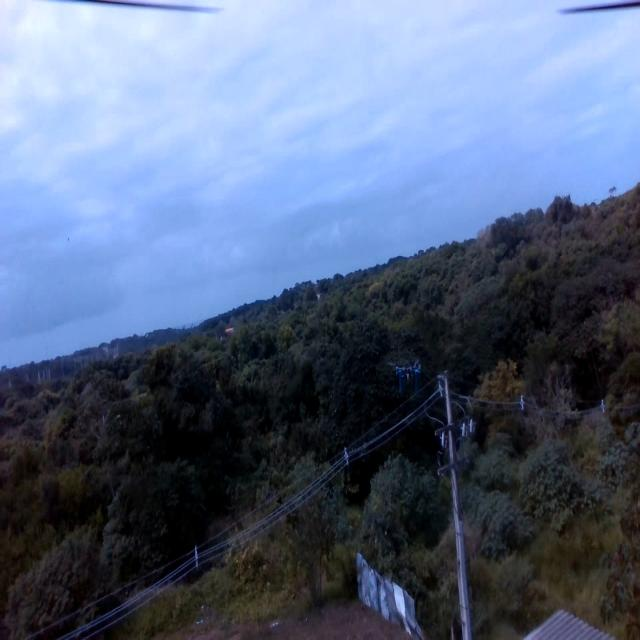-uav-: (378, 342, 432, 410)
